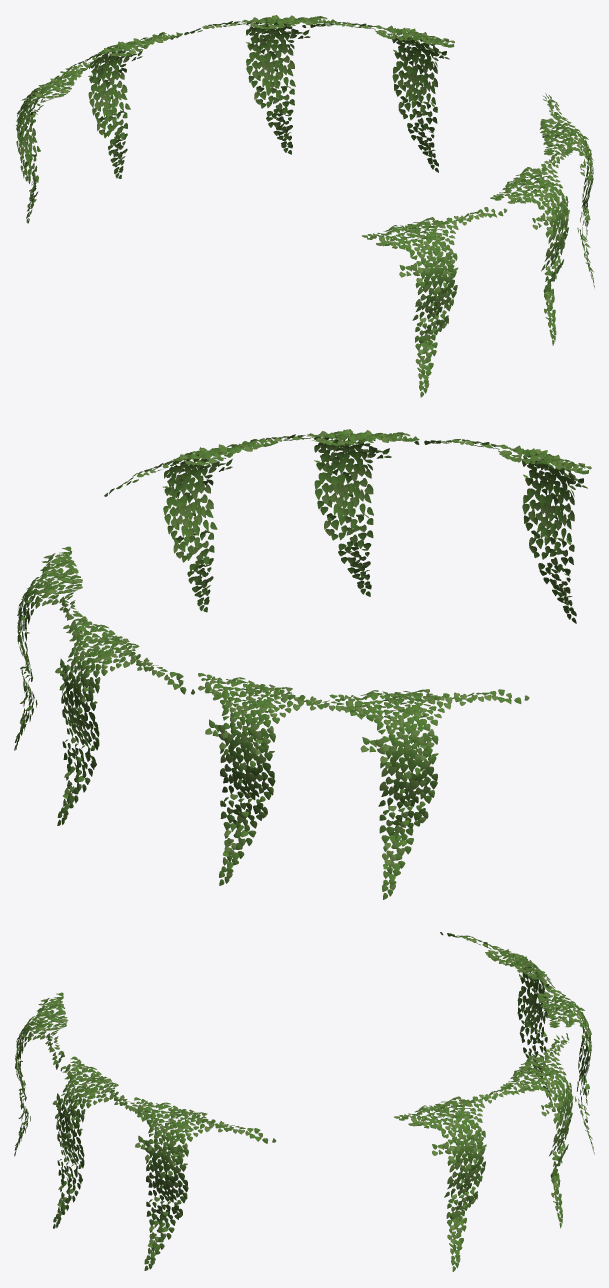
Rendered from plantvines.glb.
3 renders of one model, top to bottom at view 1: azimuth 30°, elevation 25°; view 2: azimuth 150°, elevation 25°; view 3: azimuth 270°, elevation 25°, orthographic. The views are drawn at different scales.
Parts seen in each view (by area): view 1: PlantVines; view 2: PlantVines; view 3: PlantVines.
Boxes of the visible parts, x1,y1,x2,y2 form: PlantVines: (16, 15, 594, 397); PlantVines: (14, 429, 591, 899); PlantVines: (14, 932, 594, 1271).
Size of what is drawn, in the model's own units: 37.43 by 12.75 by 43.94.
Materials: 1 (1 with a texture image).
